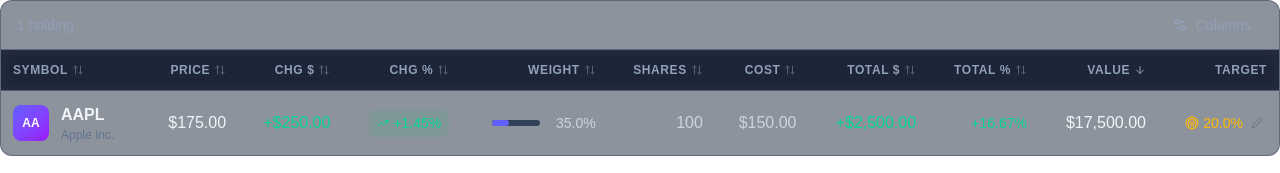
Test: HoldingsDataGrid › Target Editing › should cancel editing on Escape
The width and height of the screenshot is (1280, 173).
expect the table is shown: met, box [13, 105, 1267, 142]
Click the 2nd button: (1257, 123) [1247, 113, 1267, 133]
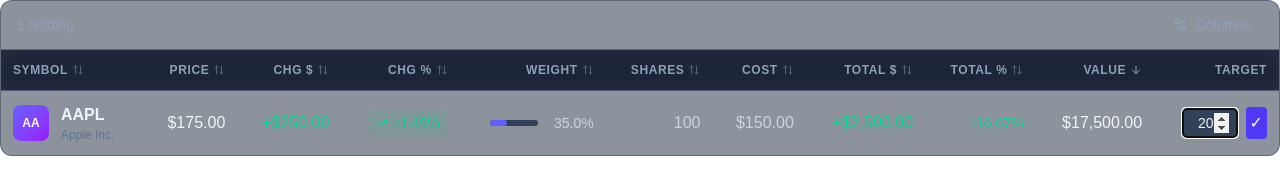
Press Escape in the number field, box [1182, 108, 1238, 138]
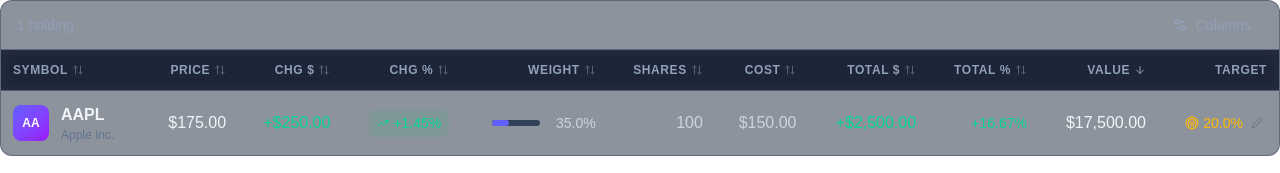
expect the text "20.0%" is shown: met, box [1203, 113, 1243, 133]
